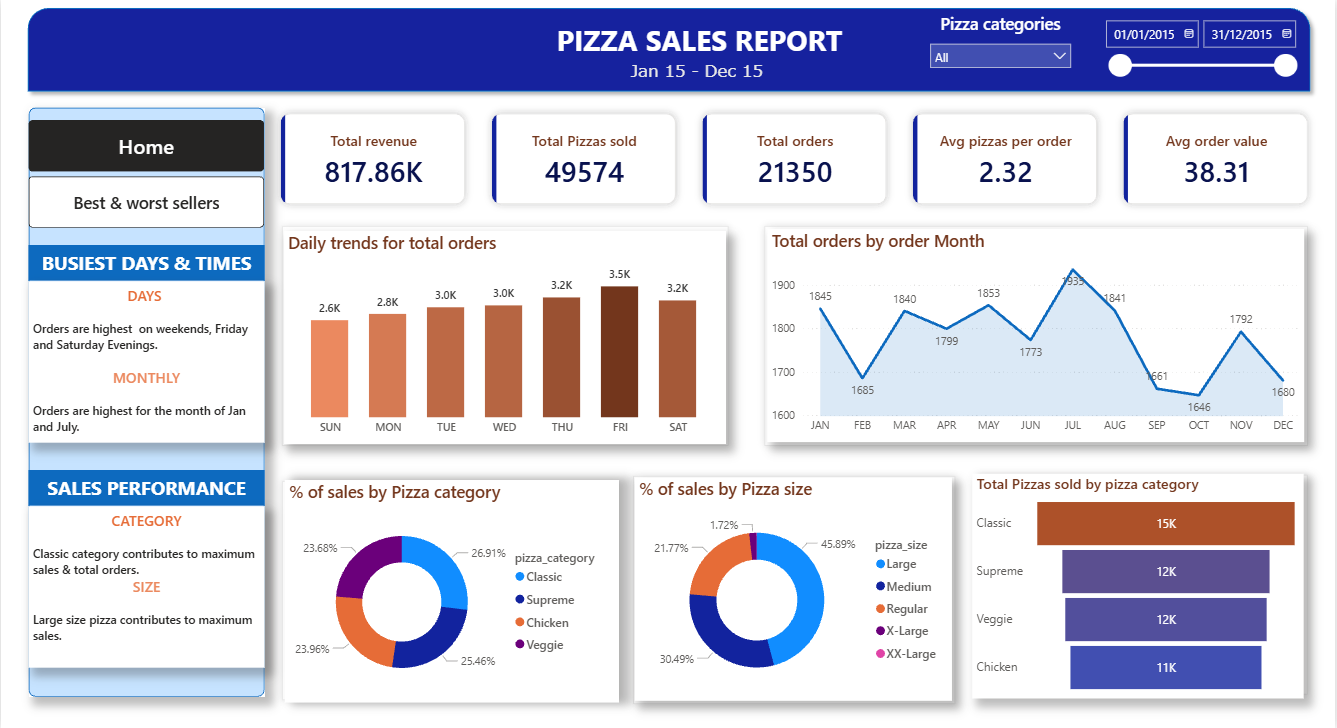

The dashboard page shown, as its layout file describes it:
{"tool":"powerbi","page":{"name":"Home","canvas":[1500,820],"ordinal":0},"visuals":[{"type":"cardVisual","fields":{"Data":["pizzadb pizza_sales.total_revenue","pizzadb pizza_sales.total_pizza_sold","pizzadb pizza_sales.total_orders","pizzadb pizza_sales.avg_pizzas_per_order","pizzadb pizza_sales.avg_order_value"]},"box":[286.2,99.2,1214.1,158.7],"z":0},{"type":"shape","box":[21.3,0,1460.7,111.9],"z":1000},{"type":"textbox","box":[612.9,18.6,345.7,54.3],"z":2000},{"type":"textbox","box":[702.9,62.9,175.7,35.7],"z":3000},{"type":"shape","box":[307.4,246.5,518.5,263.5],"z":4000},{"type":"columnChart","title":"Daily trends for total orders","fields":{"Category":["pizzadb pizza_sales.Order day"],"Y":["pizzadb pizza_sales.Total orders"]},"box":[317.3,260.7,497.3,239.4],"z":5000},{"type":"shape","box":[850,246.5,627.6,263.5],"z":6000},{"type":"areaChart","title":"Total orders by order Month","fields":{"Category":["pizzadb pizza_sales.Order Month"],"Y":["pizzadb pizza_sales.Total orders"]},"box":[861.4,257.1,604.3,240],"z":7000},{"type":"shape","box":[308.6,532.9,395.7,262.9],"z":8000},{"type":"shape","box":[702.9,527.1,378.6,272.9],"z":9000},{"type":"shape","box":[1090.9,525.6,386.8,263.5],"z":10000},{"type":"donutChart","title":"% of sales by Pizza category","fields":{"Y":["pizzadb pizza_sales.Total revenue"],"Category":["pizzadb pizza_sales.pizza_category"]},"box":[318.6,540,375.7,250],"z":11000},{"type":"donutChart","title":"% of sales by Pizza size","fields":{"Y":["pizzadb pizza_sales.Total revenue"],"Category":["pizzadb pizza_sales.pizza_size"]},"box":[712.9,537.1,357.1,251.4],"z":12000},{"type":"funnel","title":"Total Pizzas sold by pizza category","fields":{"Category":["pizzadb pizza_sales.pizza_category"],"Y":["pizzadb pizza_sales.Total Pizzas sold"]},"box":[1092.9,532.9,372.9,252.9],"z":13000},{"type":"shape","box":[31.4,121.4,265.7,662.9],"z":14000},{"type":"group","id":"g1","title":"Group 1","box":[31.4,276.1,265.7,222.9],"z":15000},{"type":"textbox","box":[31.4,276.1,265.7,40],"z":15000,"group":"g1"},{"type":"textbox","box":[31.4,529,265.7,40],"z":15000,"group":"g2"},{"type":"textbox","box":[31.4,317.5,265.7,181.4],"z":16000,"group":"g1"},{"type":"group","id":"g2","title":"Group 1","box":[31.4,529,265.7,222.9],"z":16000},{"type":"textbox","box":[31.4,570.4,265.7,181.4],"z":16000,"group":"g2"},{"type":"slicer","title":"Pizza categories","fields":{"Values":["pizzadb pizza_sales.pizza_category"]},"box":[1034.3,14.3,178.6,84.3],"z":17000},{"type":"slicer","title":"Pizza categories","fields":{"Values":["pizzadb pizza_sales.order_dates"]},"box":[1230,12.9,235.7,84.3],"z":18000},{"type":"pageNavigator","box":[31.4,134.3,265.7,58.6],"z":19000},{"type":"pageNavigator","box":[31.4,198.6,265.7,58.6],"z":20000}]}

Visuals, with their boxes in screenshot pixels (x1, y1, x2, y2), scaled from the page's 1500x820 canvas onto the 1337x728 screenshot:
cardVisual - pizzadb pizza_sales.total_revenue x pizzadb pizza_sales.total_pizza_sold: pyautogui.locateOnScreen(255, 88, 1336, 229)
shape: pyautogui.locateOnScreen(19, 0, 1321, 99)
textbox: pyautogui.locateOnScreen(546, 17, 854, 65)
textbox: pyautogui.locateOnScreen(627, 56, 783, 88)
shape: pyautogui.locateOnScreen(274, 219, 736, 453)
"Daily trends for total orders" columnChart: pyautogui.locateOnScreen(283, 231, 726, 444)
shape: pyautogui.locateOnScreen(758, 219, 1317, 453)
"Total orders by order Month" areaChart: pyautogui.locateOnScreen(768, 228, 1306, 441)
shape: pyautogui.locateOnScreen(275, 473, 628, 707)
shape: pyautogui.locateOnScreen(627, 468, 964, 710)
shape: pyautogui.locateOnScreen(972, 467, 1317, 701)
"% of sales by Pizza category" donutChart: pyautogui.locateOnScreen(284, 479, 619, 701)
"% of sales by Pizza size" donutChart: pyautogui.locateOnScreen(635, 477, 954, 700)
"Total Pizzas sold by pizza category" funnel: pyautogui.locateOnScreen(974, 473, 1307, 698)
shape: pyautogui.locateOnScreen(28, 108, 265, 696)
"Group 1" group: pyautogui.locateOnScreen(28, 245, 265, 443)
textbox: pyautogui.locateOnScreen(28, 245, 265, 281)
textbox: pyautogui.locateOnScreen(28, 470, 265, 505)
textbox: pyautogui.locateOnScreen(28, 282, 265, 443)
"Group 1" group: pyautogui.locateOnScreen(28, 470, 265, 668)
textbox: pyautogui.locateOnScreen(28, 506, 265, 667)
"Pizza categories" slicer: pyautogui.locateOnScreen(922, 13, 1081, 88)
"Pizza categories" slicer: pyautogui.locateOnScreen(1096, 11, 1306, 86)
pageNavigator: pyautogui.locateOnScreen(28, 119, 265, 171)
pageNavigator: pyautogui.locateOnScreen(28, 176, 265, 228)
